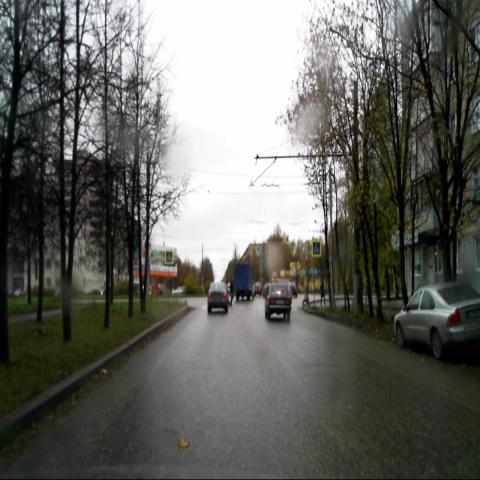5_19_1: (312, 239, 321, 257)
